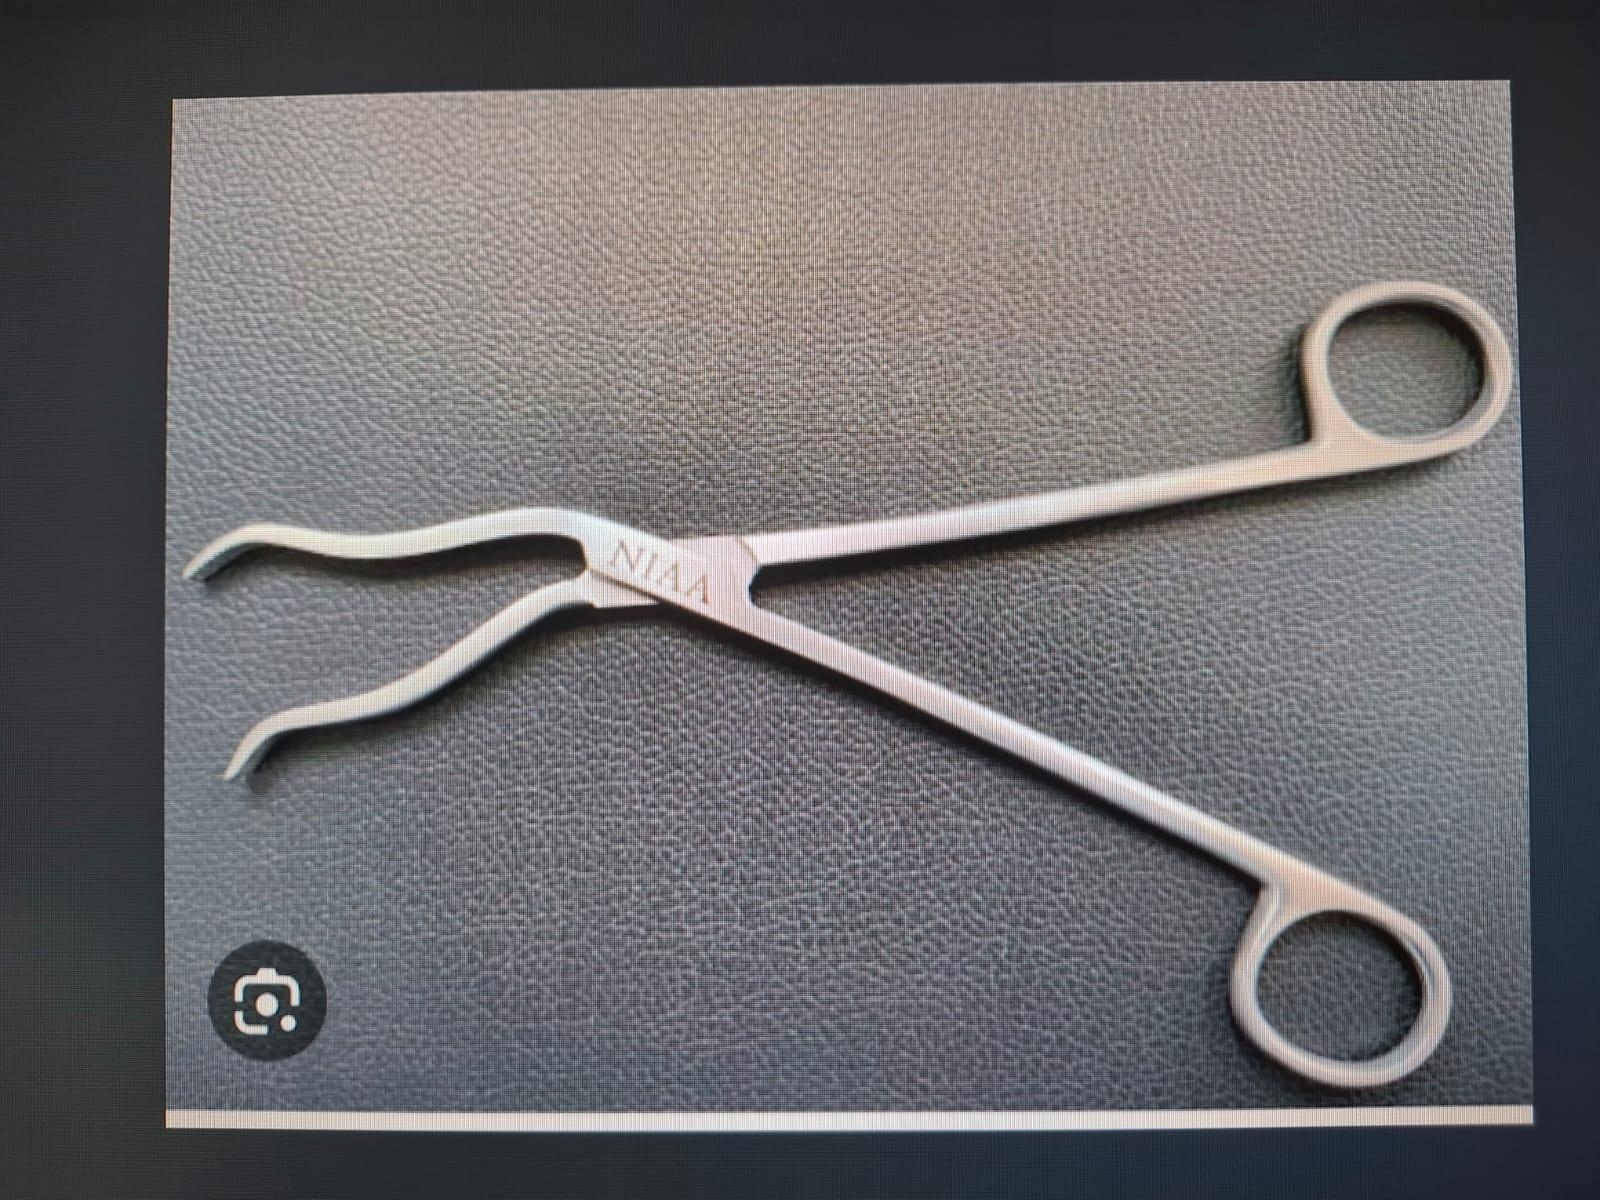Cheatle Forceps: (180, 279, 1529, 1105)
